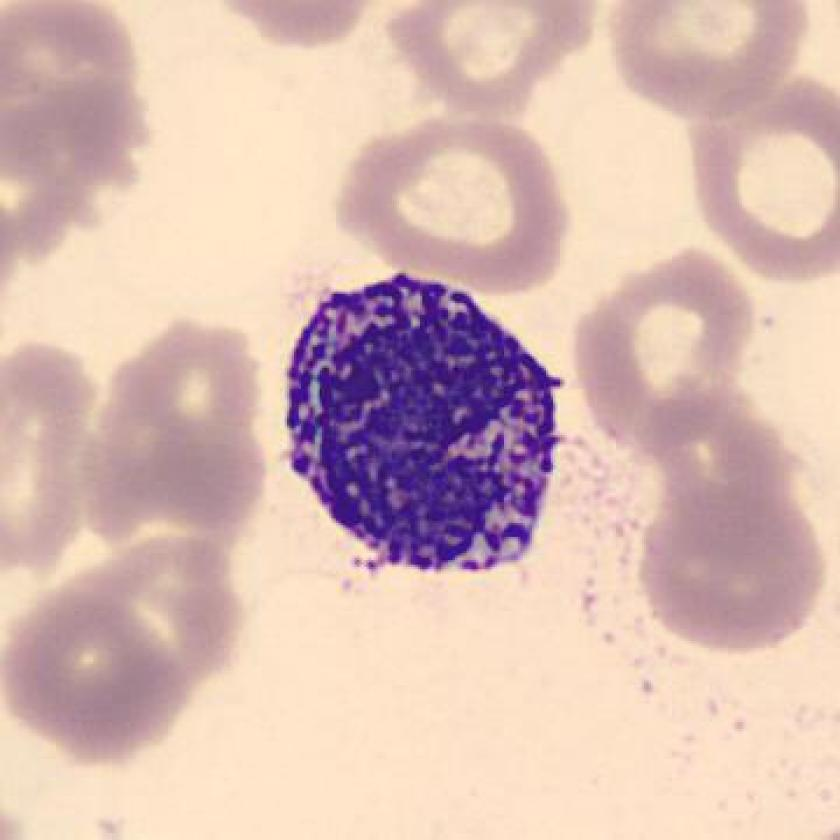basophil: (279, 269, 570, 589)
